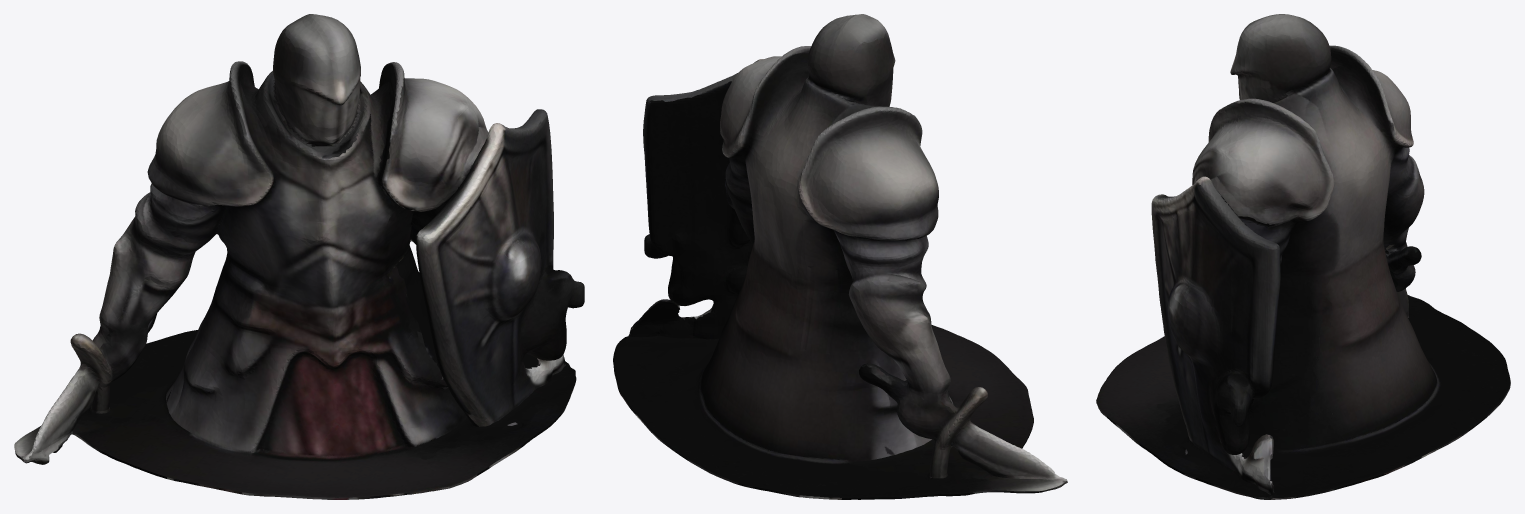
Rendered from boss-06.glb.
3 views of the same model, side by side, from view 1: azimuth 30°, elevation 25°; view 2: azimuth 150°, elevation 25°; view 3: azimuth 270°, elevation 25° (orthographic). The views are drawn at different scales.
Visible parts, largest first — view 1: tmpffnmk8dt.ply; view 2: tmpffnmk8dt.ply; view 3: tmpffnmk8dt.ply.
Boxes of the visible parts, x1,y1,x2,y2 form: tmpffnmk8dt.ply: (14, 14, 584, 499); tmpffnmk8dt.ply: (613, 14, 1067, 499); tmpffnmk8dt.ply: (1096, 14, 1510, 499).
Bounding box in the file's own units: 1.96 × 1.53 × 1.5.
Materials: 1 (1 with a texture image).
